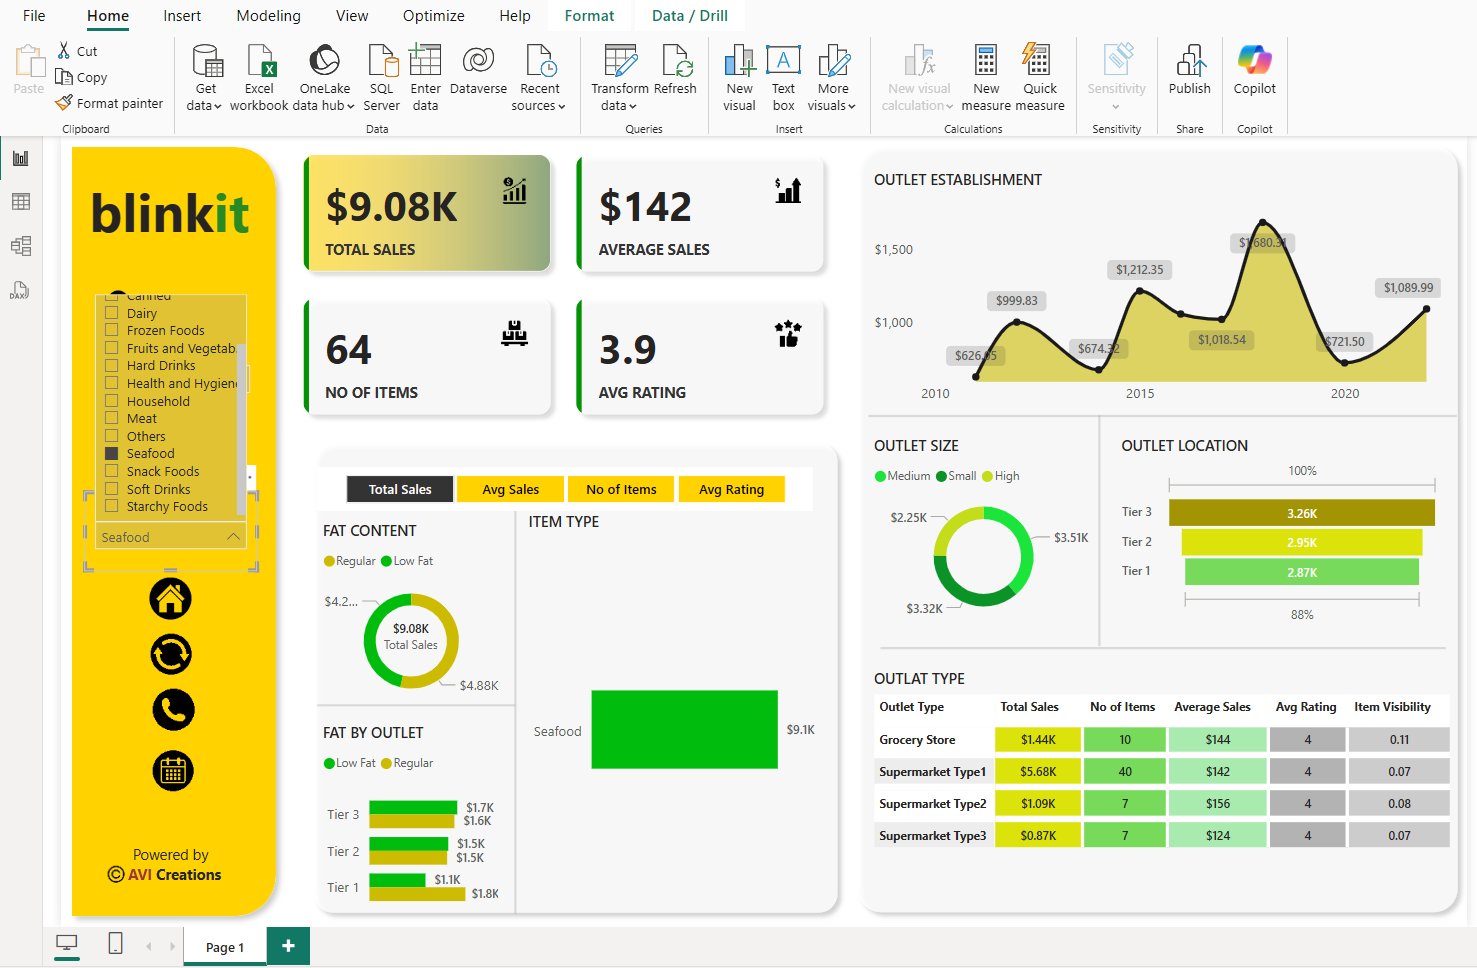

The page's visual inventory and layout, read from the dashboard file:
{"tool":"powerbi","page":{"name":"Page 1","canvas":[1280,720],"ordinal":0},"visuals":[{"type":"shape","box":[0,0,205.6,720],"z":0},{"type":"textbox","box":[21,30,165.2,75.1],"z":1000},{"type":"cardVisual","fields":{"Data":["BlinkIT Grocery Data.Total Sales","BlinkIT Grocery Data.Average Sales","BlinkIT Grocery Data.No of Items","BlinkIT Grocery Data.Avg Rating"]},"box":[205.2,0,509.6,270.3],"z":2000},{"type":"shape","box":[221.1,270,494.4,445.6],"z":3000},{"type":"donutChart","title":"FAT CONTENT","fields":{"Y":["BlinkIT Grocery Data.Total Sales"],"Category":["BlinkIT Grocery Data.Item Fat Content"]},"box":[233.3,349.4,170.2,175.2],"z":4000},{"type":"slicer","fields":{"Values":["Matrix.Matrix"]},"box":[233.3,301.3,450.5,40],"z":5000},{"type":"cardVisual","fields":{"Data":["BlinkIT Grocery Data.Total Sales"]},"box":[264.4,416.7,108.9,76.7],"z":6000},{"type":"clusteredBarChart","title":"FAT BY OUTLET","fields":{"Y":["BlinkIT Grocery Data.Total Sales"],"Category":["BlinkIT Grocery Data.Outlet Location Type"],"Series":["BlinkIT Grocery Data.Item Fat Content"]},"box":[233.3,533.3,170,182.2],"z":7000},{"type":"shape","box":[233.3,502.2,180,31.1],"z":8000},{"type":"shape","box":[407.8,341.1,12.2,366.7],"z":9000},{"type":"clusteredBarChart","title":"ITEM TYPE","fields":{"Y":["BlinkIT Grocery Data.Total Sales"],"Category":["BlinkIT Grocery Data.Item Type"]},"box":[420,341.1,273.3,374.4],"z":10000},{"type":"shape","box":[715.6,0,564.4,715.6],"z":11000},{"type":"lineChart","title":"OUTLET ESTABLISHMENT","fields":{"Category":["BlinkIT Grocery Data.Outlet Establishment Year"],"Y":["BlinkIT Grocery Data.Total Sales"]},"box":[734.4,30,525.6,222.2],"z":12000},{"type":"shape","box":[734.4,238.9,535.6,31.1],"z":13000},{"type":"donutChart","title":"OUTLET SIZE","fields":{"Y":["BlinkIT Grocery Data.Total Sales"],"Category":["BlinkIT Grocery Data.Outlet Size"]},"box":[734.4,272.3,208.9,175.6],"z":14000},{"type":"shape","box":[930,254.4,30,210],"z":15000},{"type":"funnel","title":"OUTLET LOCATION","fields":{"Y":["Sum(BlinkIT Grocery Data.Sales)"],"Category":["BlinkIT Grocery Data.Outlet Location Type"]},"box":[960,272.3,300,175.6],"z":16000},{"type":"pivotTable","title":"OUTLAT TYPE","fields":{"Rows":["BlinkIT Grocery Data.Outlet Type"],"Values":["BlinkIT Grocery Data.Total Sales","BlinkIT Grocery Data.No of Items","BlinkIT Grocery Data.Average Sales","BlinkIT Grocery Data.Avg Rating","Avg(BlinkIT Grocery Data.Item Visibility)"]},"box":[734.4,484.4,535.5,190],"z":17000},{"type":"shape","box":[745.6,450,514.4,31.1],"z":18000},{"type":"slicer","fields":{"Values":["BlinkIT Grocery Data.Outlet Size"]},"box":[21.1,254.4,157.8,73.3],"z":19000},{"type":"slicer","fields":{"Values":["BlinkIT Grocery Data.Item Type"]},"box":[21.1,323.3,157.8,73.3],"z":20000},{"type":"slicer","fields":{"Values":["BlinkIT Grocery Data.Outlet Type"]},"box":[24.4,181.1,157.8,73.3],"z":21000},{"type":"textbox","box":[65.6,135.6,101.1,37.8],"z":22000},{"type":"image","box":[36.7,135.6,30,30],"z":23000},{"type":"image","box":[75.6,396.7,48.9,48.9],"z":24000},{"type":"image","box":[66.7,447.8,66.7,47.8],"z":25000},{"type":"image","box":[76.7,497.8,50,48.9],"z":26000},{"type":"image","box":[76.7,553.3,50,47.8],"z":27000},{"type":"textbox","box":[44.4,638.9,111.1,50],"z":28000},{"type":"image","box":[36.7,658.9,25.6,25.6],"z":29000}]}

Visuals, with their boxes on the page's 1280x720 design canvas (x1, y1, x2, y2). These are canvas units, not pixel positions in the 1477x968 screenshot, which may show the page scaled, cropped or inside an application window:
shape: x1=0 y1=0 x2=206 y2=720
textbox: x1=21 y1=30 x2=186 y2=105
cardVisual - BlinkIT Grocery Data.Total Sales x BlinkIT Grocery Data.Average Sales: x1=205 y1=0 x2=715 y2=270
shape: x1=221 y1=270 x2=716 y2=716
"FAT CONTENT" donutChart: x1=233 y1=349 x2=404 y2=525
slicer - Matrix.Matrix: x1=233 y1=301 x2=684 y2=341
cardVisual - BlinkIT Grocery Data.Total Sales: x1=264 y1=417 x2=373 y2=493
"FAT BY OUTLET" clusteredBarChart: x1=233 y1=533 x2=403 y2=716
shape: x1=233 y1=502 x2=413 y2=533
shape: x1=408 y1=341 x2=420 y2=708
"ITEM TYPE" clusteredBarChart: x1=420 y1=341 x2=693 y2=716
shape: x1=716 y1=0 x2=1280 y2=716
"OUTLET ESTABLISHMENT" lineChart: x1=734 y1=30 x2=1260 y2=252
shape: x1=734 y1=239 x2=1270 y2=270
"OUTLET SIZE" donutChart: x1=734 y1=272 x2=943 y2=448
shape: x1=930 y1=254 x2=960 y2=464
"OUTLET LOCATION" funnel: x1=960 y1=272 x2=1260 y2=448
"OUTLAT TYPE" pivotTable: x1=734 y1=484 x2=1270 y2=674
shape: x1=746 y1=450 x2=1260 y2=481
slicer - BlinkIT Grocery Data.Outlet Size: x1=21 y1=254 x2=179 y2=328
slicer - BlinkIT Grocery Data.Item Type: x1=21 y1=323 x2=179 y2=397
slicer - BlinkIT Grocery Data.Outlet Type: x1=24 y1=181 x2=182 y2=254
textbox: x1=66 y1=136 x2=167 y2=173
image: x1=37 y1=136 x2=67 y2=166
image: x1=76 y1=397 x2=124 y2=446
image: x1=67 y1=448 x2=133 y2=496
image: x1=77 y1=498 x2=127 y2=547
image: x1=77 y1=553 x2=127 y2=601
textbox: x1=44 y1=639 x2=156 y2=689
image: x1=37 y1=659 x2=62 y2=684
